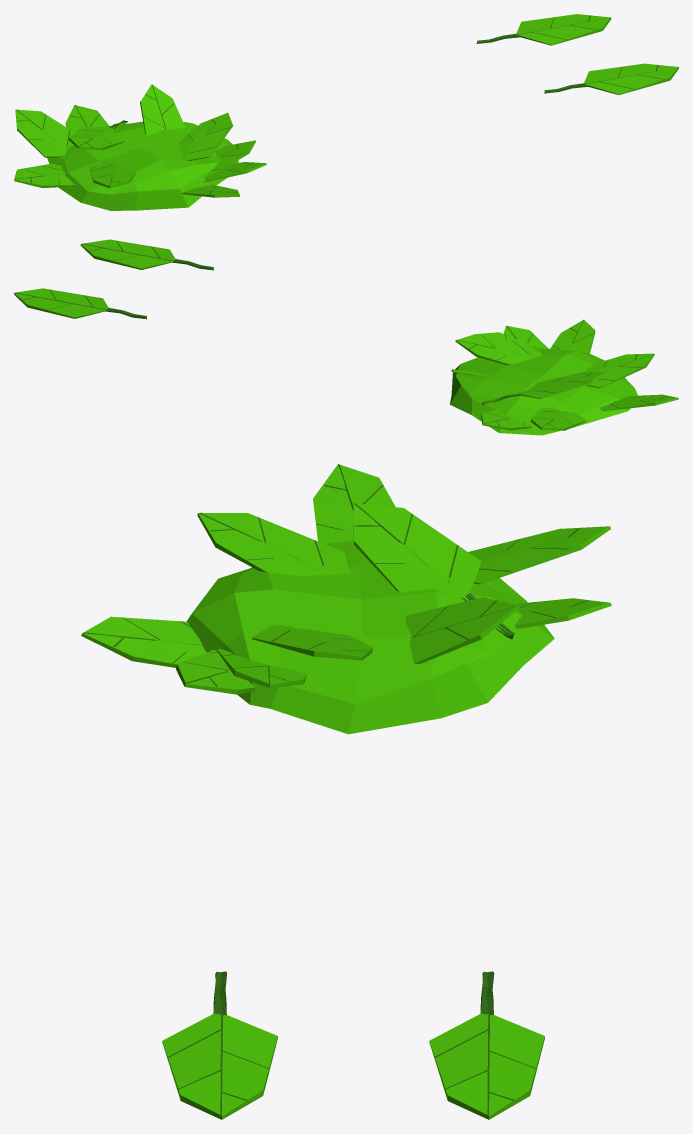
Rendered from monton_de_hojas.fbx.
3 views of the same model, one above another, from view 1: azimuth 30°, elevation 25°; view 2: azimuth 150°, elevation 25°; view 3: azimuth 270°, elevation 25° (orthographic). The views are drawn at different scales.
Parts seen in each view (by area): view 1: Circle; view 2: Circle; view 3: Circle.
Part boxes in pixels (x1,y1,x2,y2): Circle: (14, 14, 678, 210); Circle: (14, 239, 678, 435); Circle: (81, 464, 611, 1119).
Size of the model in its own units: 356 by 27.28 by 130.
